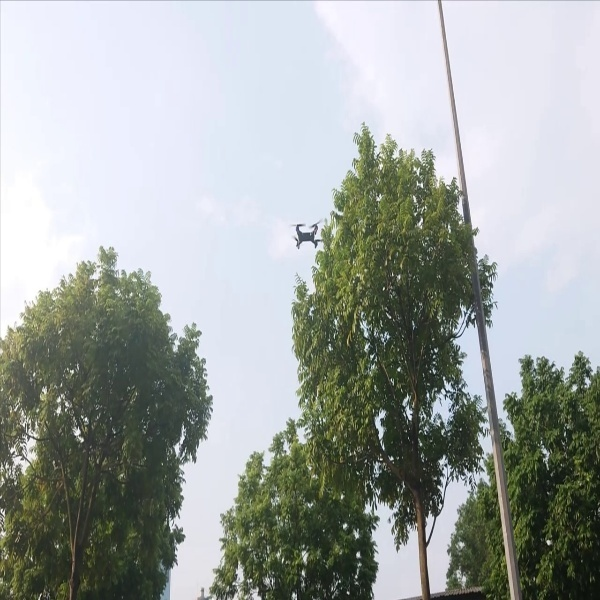drone: (283, 213, 322, 251)
